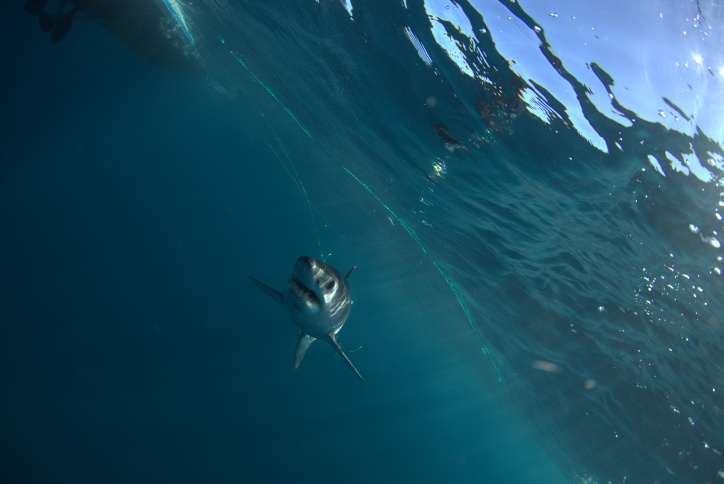Mako: (219, 245, 381, 392)
